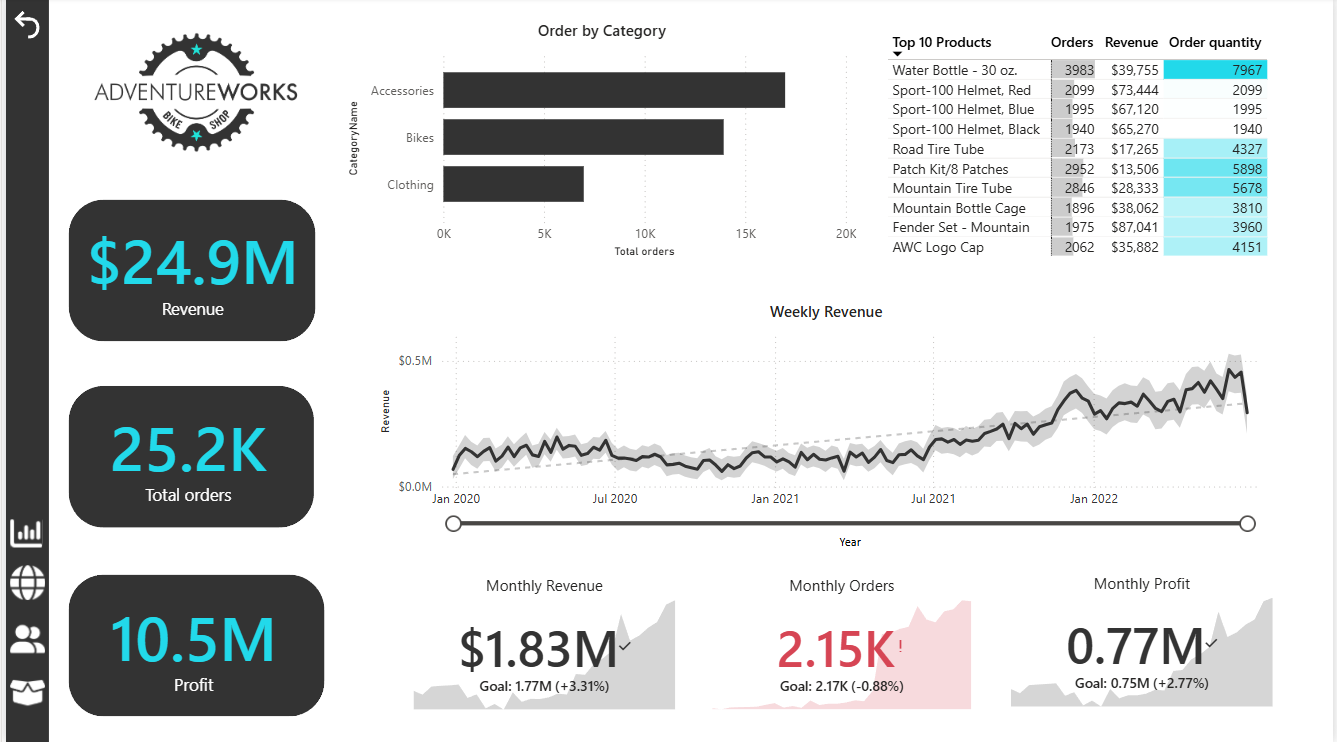

Layout of this report page (visuals, bound fields, positions):
{"tool":"powerbi","page":{"name":"Dashboard","canvas":[1280,720],"ordinal":0},"visuals":[{"type":"shape","box":[60,195.7,238.6,137.1],"z":0,"group":"g3"},{"type":"lineChart","title":"Weekly Revenue","fields":{"Y":["Measure Table.Revenue"],"Category":["Calendar Lookup.Start of Week.Variation.Date Hierarchy.Year","Calendar Lookup.Start of Week.Variation.Date Hierarchy.Quarter","Calendar Lookup.Start of Week.Variation.Date Hierarchy.Month","Calendar Lookup.Start of Week.Variation.Date Hierarchy.Day"]},"box":[356.2,293.8,871.2,242.5],"z":0},{"type":"shape","box":[60,375,237.1,137.1],"z":0,"group":"g1"},{"type":"shape","box":[60,557.1,247.1,137.1],"z":0,"group":"g2"},{"type":"card","fields":{"Values":["Measure Table.Revenue"]},"box":[79.4,196.2,228,12],"z":1000},{"type":"barChart","title":"Order by Category","fields":{"Category":["Product Categories Lookup.CategoryName"],"Y":["Measure Table.Total orders"]},"box":[325,21.2,501.2,235],"z":2000},{"type":"kpi","title":"Monthly Revenue","fields":{"Indicator":["Measure Table.Revenue"],"TrendLine":["Calendar Lookup.Date hirerarchy.Start of Month"],"Goal":["Measure Table.Prev Month Revenue"]},"box":[388.1,556.9,262.6,135.6],"z":3000},{"type":"kpi","title":"Monthly Profit","fields":{"TrendLine":["Calendar Lookup.Date hirerarchy.Start of Month"],"Indicator":["Measure Table.Profit"],"Goal":["Measure Table.Prev Month Profit"]},"box":[965,555,262.5,135],"z":4000},{"type":"kpi","title":"Monthly Orders","fields":{"Indicator":["Measure Table.Total orders"],"TrendLine":["Calendar Lookup.Date hirerarchy.Start of Month"],"Goal":["Measure Table.Prev Month Order"]},"box":[676.3,557.1,259.8,135.3],"z":5000},{"type":"tableEx","fields":{"Values":["Product Lookup.ProductName","Measure Table.Total orders","Measure Table.Revenue","Measure Table.order quantity"]},"box":[845,21.2,418.8,235],"z":6000},{"type":"image","box":[58.6,21.4,250,140],"z":7000},{"type":"shape","box":[0,0,41.4,720],"z":8000},{"type":"group","id":"g1","title":"Group 1","box":[60,375,237.1,137.1],"z":9000},{"type":"card","fields":{"Values":["Measure Table.Total orders"]},"box":[67.8,383.7,217.1,117.1],"z":9000,"group":"g1"},{"type":"card","fields":{"Values":["Measure Table.Profit"]},"box":[82,572,198.6,107.1],"z":9000,"group":"g2"},{"type":"group","id":"g2","title":"Group 1","box":[60,557.1,247.1,137.1],"z":10000},{"type":"group","id":"g3","title":"Group 2","box":[60,195.7,238.6,137.1],"z":11000},{"type":"actionButton","box":[2.5,8.8,41.2,36.2],"z":12000},{"type":"card","fields":{"Values":["Measure Table.Revenue"]},"box":[68.6,202.8,222.9,118.6],"z":12000,"group":"g3"},{"type":"actionButton","box":[0,497.8,41.8,39],"z":13000},{"type":"actionButton","box":[0,526.6,41.8,77.9],"z":14000},{"type":"actionButton","box":[0,580,41.8,77.9],"z":15000},{"type":"actionButton","box":[0,631.9,41.8,77.9],"z":16000}]}

Visuals, with their boxes on the page's 1280x720 design canvas (x1, y1, x2, y2). These are canvas units, not pixel positions in the 1337x742 screenshot, which may show the page scaled, cropped or inside an application window:
shape: box(60, 196, 299, 333)
"Weekly Revenue" lineChart: box(356, 294, 1227, 536)
shape: box(60, 375, 297, 512)
shape: box(60, 557, 307, 694)
card - Measure Table.Revenue: box(79, 196, 307, 208)
"Order by Category" barChart: box(325, 21, 826, 256)
"Monthly Revenue" kpi: box(388, 557, 651, 692)
"Monthly Profit" kpi: box(965, 555, 1228, 690)
"Monthly Orders" kpi: box(676, 557, 936, 692)
tableEx - Product Lookup.ProductName x Measure Table.Total orders: box(845, 21, 1264, 256)
image: box(59, 21, 309, 161)
shape: box(0, 0, 41, 720)
"Group 1" group: box(60, 375, 297, 512)
card - Measure Table.Total orders: box(68, 384, 285, 501)
card - Measure Table.Profit: box(82, 572, 281, 679)
"Group 1" group: box(60, 557, 307, 694)
"Group 2" group: box(60, 196, 299, 333)
actionButton: box(2, 9, 44, 45)
card - Measure Table.Revenue: box(69, 203, 292, 321)
actionButton: box(0, 498, 42, 537)
actionButton: box(0, 527, 42, 604)
actionButton: box(0, 580, 42, 658)
actionButton: box(0, 632, 42, 710)
